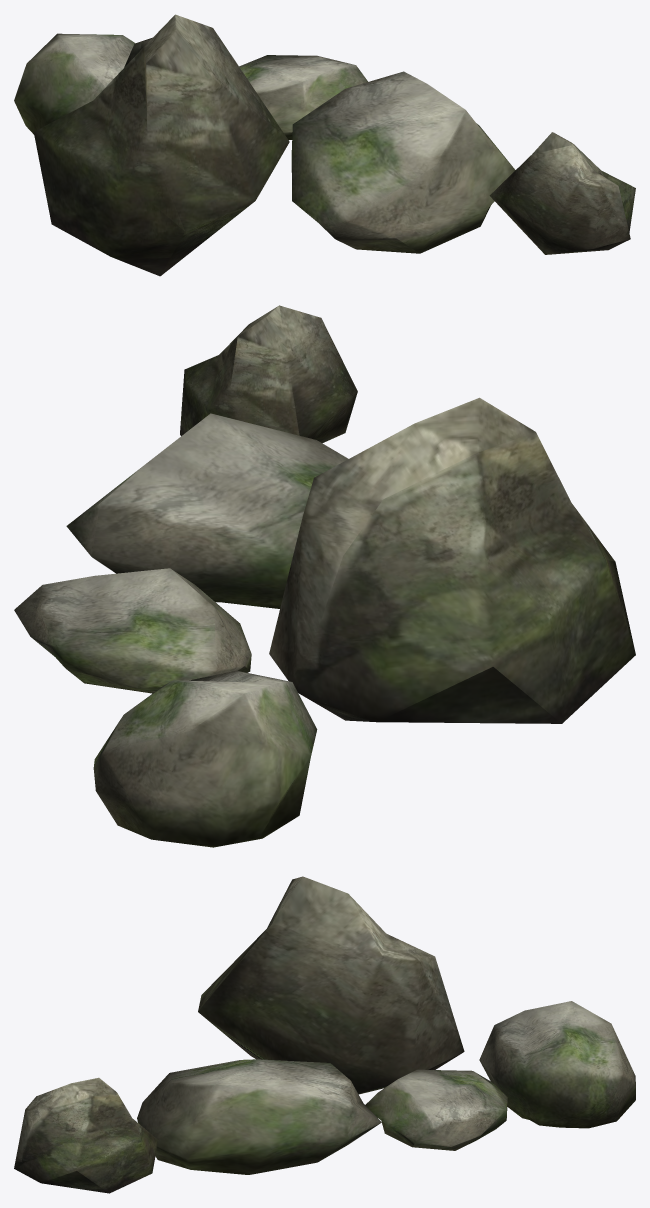
File: zz_dont_use_rocks_Dk_group_1F.fbx
3 renders of one model, top to bottom at view 1: azimuth 30°, elevation 25°; view 2: azimuth 150°, elevation 25°; view 3: azimuth 270°, elevation 25°, orthographic. The views are drawn at different scales.
Parts seen in each view (by area): view 1: rock_3, rock_2, rock_4, rock_1, rock_5; view 2: rock_3, rock_2, rock_1, rock_5, rock_4; view 3: rock_3, rock_2, rock_1, rock_4, rock_5.
Part boxes in pixels (x1=…): rock_3: x1=33, y1=14, x2=289, y2=276; rock_2: x1=291, y1=71, x2=515, y2=253; rock_4: x1=489, y1=132, x2=635, y2=254; rock_1: x1=14, y1=33, x2=134, y2=134; rock_5: x1=239, y1=55, x2=367, y2=139; rock_3: x1=269, y1=397, x2=635, y2=723; rock_2: x1=66, y1=413, x2=348, y2=608; rock_1: x1=93, y1=670, x2=317, y2=847; rock_5: x1=14, y1=568, x2=251, y2=693; rock_4: x1=180, y1=305, x2=357, y2=443; rock_3: x1=198, y1=876, x2=464, y2=1094; rock_2: x1=137, y1=1059, x2=381, y2=1174; rock_1: x1=479, y1=1001, x2=635, y2=1128; rock_4: x1=14, y1=1077, x2=158, y2=1193; rock_5: x1=365, y1=1069, x2=507, y2=1150.
Bounding box in the file's own units: 697 × 359 × 935.
1 material, 1 textured.
